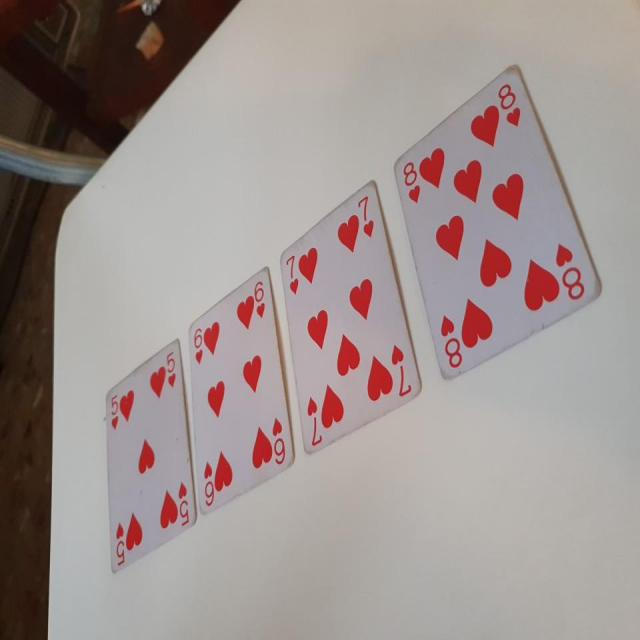5 Hearts: (99, 338, 206, 572)
6 Hearts: (181, 260, 296, 522)
7 Hearts: (278, 175, 425, 464)
8 Hearts: (390, 63, 606, 383)
